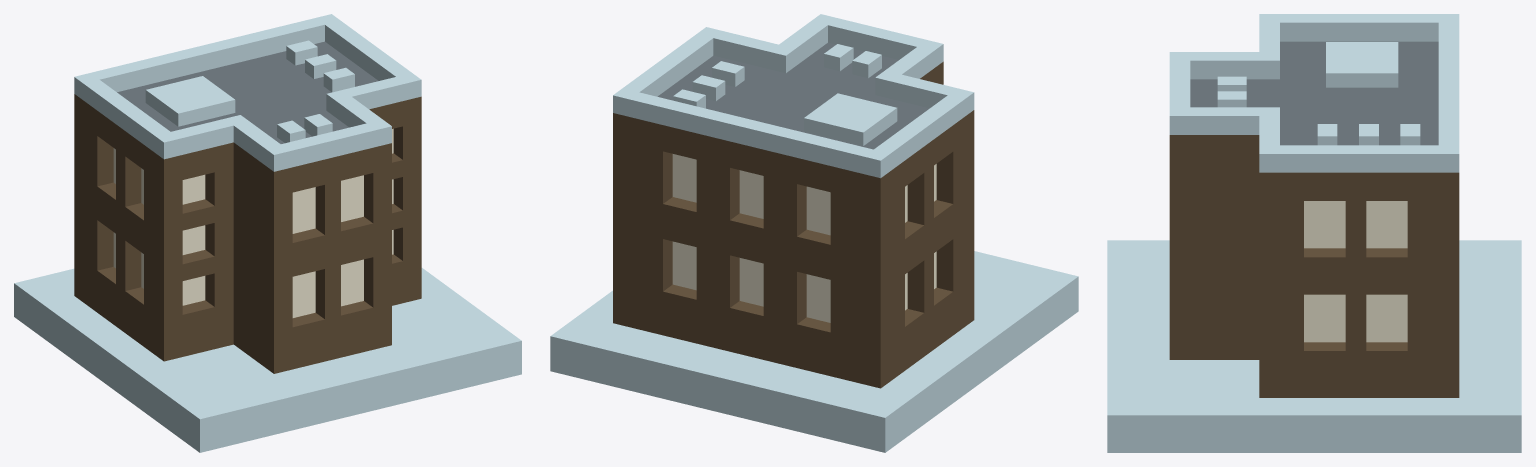
File: Building_12_Base_Extra (Brown).obj
The picture shows the model from 3 angles, left to right: view 1: azimuth 30°, elevation 25°; view 2: azimuth 150°, elevation 25°; view 3: azimuth 270°, elevation 25°; orthographic projection. The views are drawn at different scales.
Parts seen in each view (by area): view 1: Building_12_Base_Extra_(Brown); view 2: Building_12_Base_Extra_(Brown); view 3: Building_12_Base_Extra_(Brown).
Boxes of the visible parts, box(x1,y1,x2,y2) form: Building_12_Base_Extra_(Brown): box(14, 14, 521, 452); Building_12_Base_Extra_(Brown): box(550, 14, 1078, 452); Building_12_Base_Extra_(Brown): box(1107, 14, 1521, 452).
Bounding box in the file's own units: 2 × 1.5 × 2.
